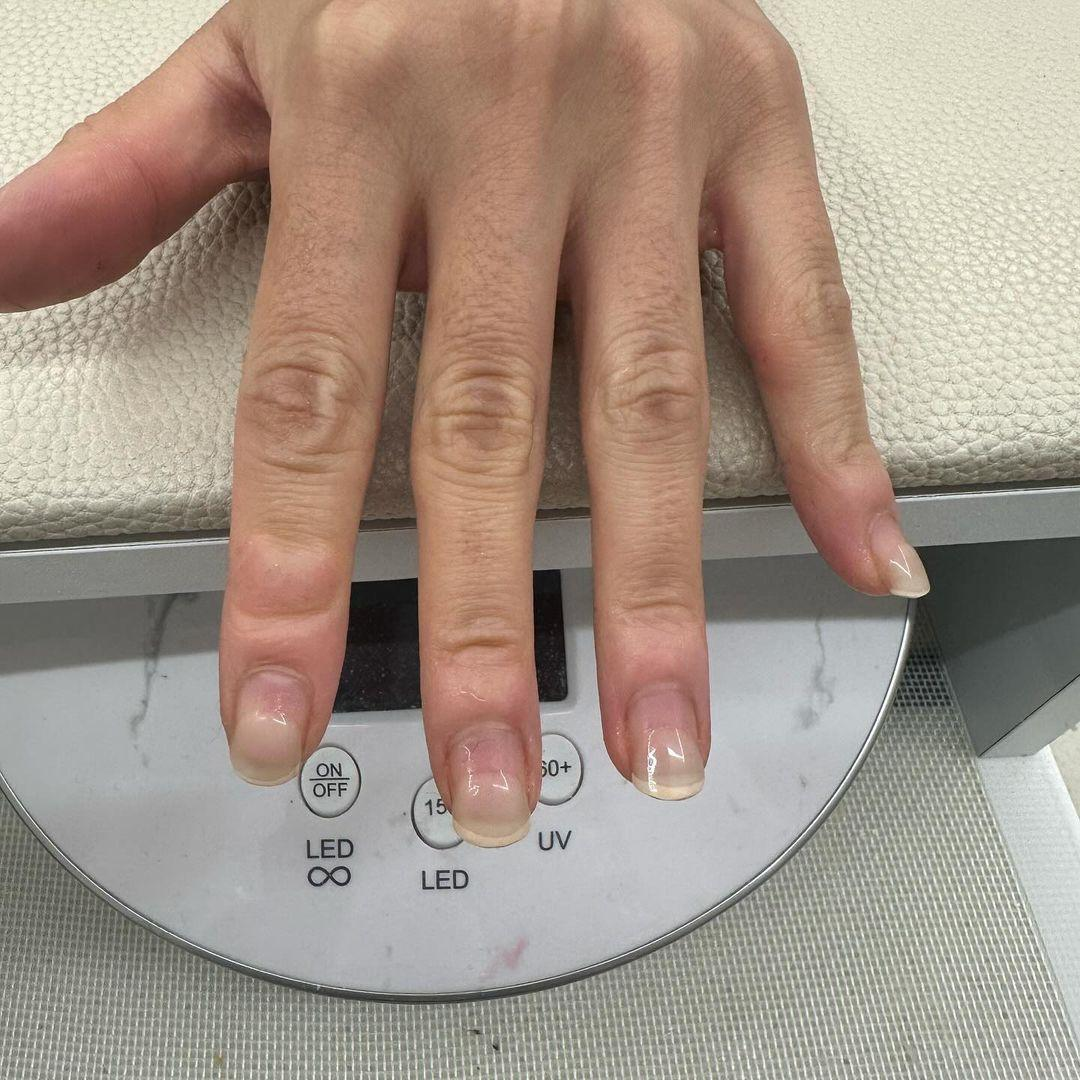nail: (445, 720, 533, 847), (227, 663, 312, 786), (623, 682, 706, 800), (866, 510, 930, 598)
